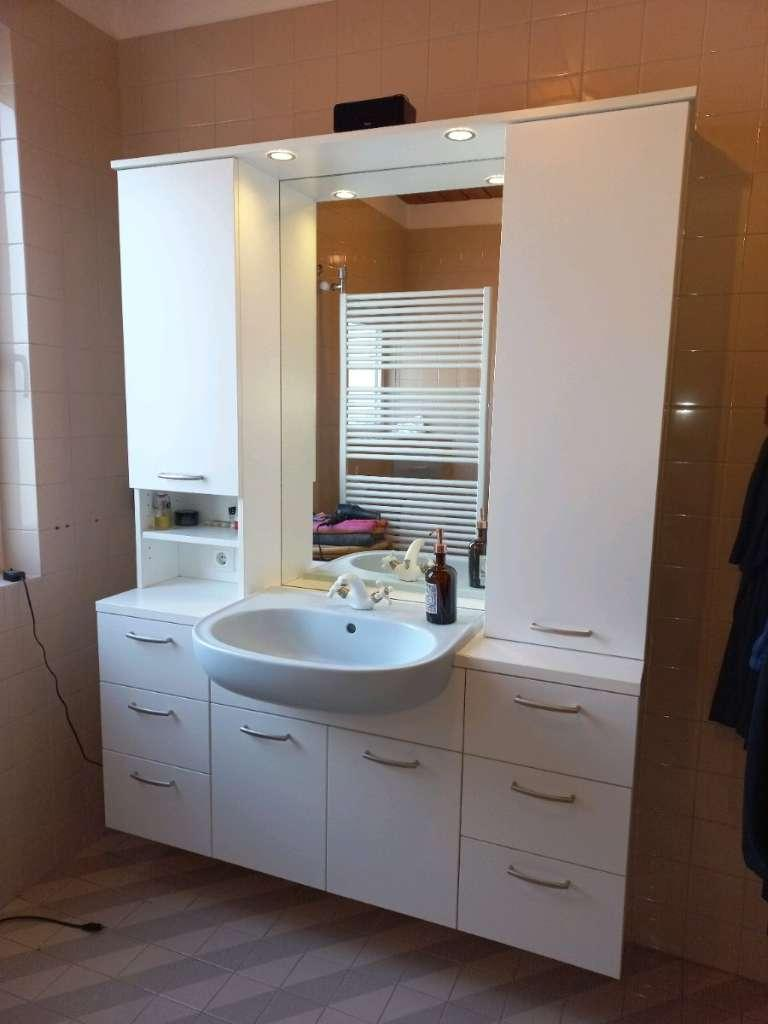cabinet_door: (493, 117, 662, 652), (123, 167, 235, 495), (328, 744, 455, 904), (213, 717, 323, 867), (465, 859, 621, 948), (465, 680, 632, 761), (464, 769, 622, 840), (107, 763, 210, 836), (102, 689, 207, 751), (101, 615, 201, 673)
handle: (527, 613, 597, 645), (358, 746, 423, 777), (510, 782, 581, 810), (514, 696, 586, 722), (507, 865, 573, 892), (239, 722, 295, 750), (123, 626, 175, 650), (128, 766, 174, 793), (129, 700, 176, 725), (156, 465, 211, 485)
